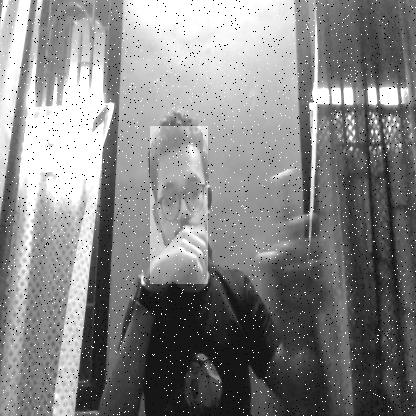Normal: (150, 126, 208, 284)
